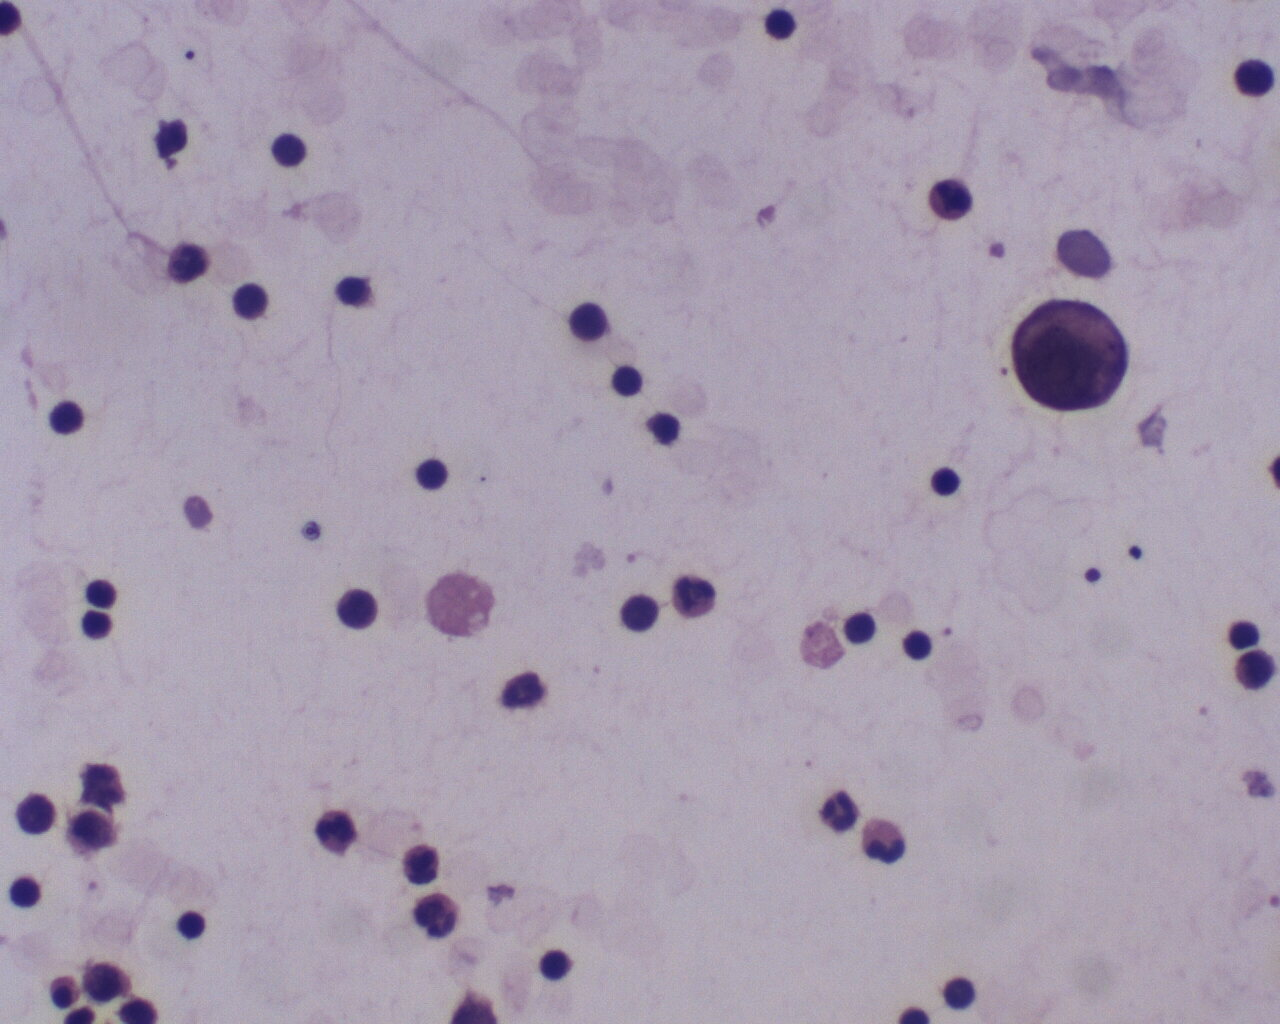ab: (1002, 294, 1139, 416)
lymph: (559, 297, 608, 348), (335, 588, 389, 634), (229, 279, 276, 324), (330, 271, 376, 312), (533, 946, 579, 983), (410, 453, 451, 494), (940, 973, 981, 1014), (841, 608, 883, 648), (8, 871, 48, 911), (43, 398, 84, 437), (83, 573, 123, 611), (609, 360, 648, 400), (900, 624, 935, 666), (758, 6, 799, 42), (929, 461, 965, 499), (269, 132, 304, 171), (174, 906, 208, 942)
neutro: (411, 890, 461, 947), (310, 805, 360, 858), (397, 837, 448, 888), (928, 171, 977, 223), (861, 816, 906, 866), (673, 571, 716, 620), (818, 788, 859, 834)
